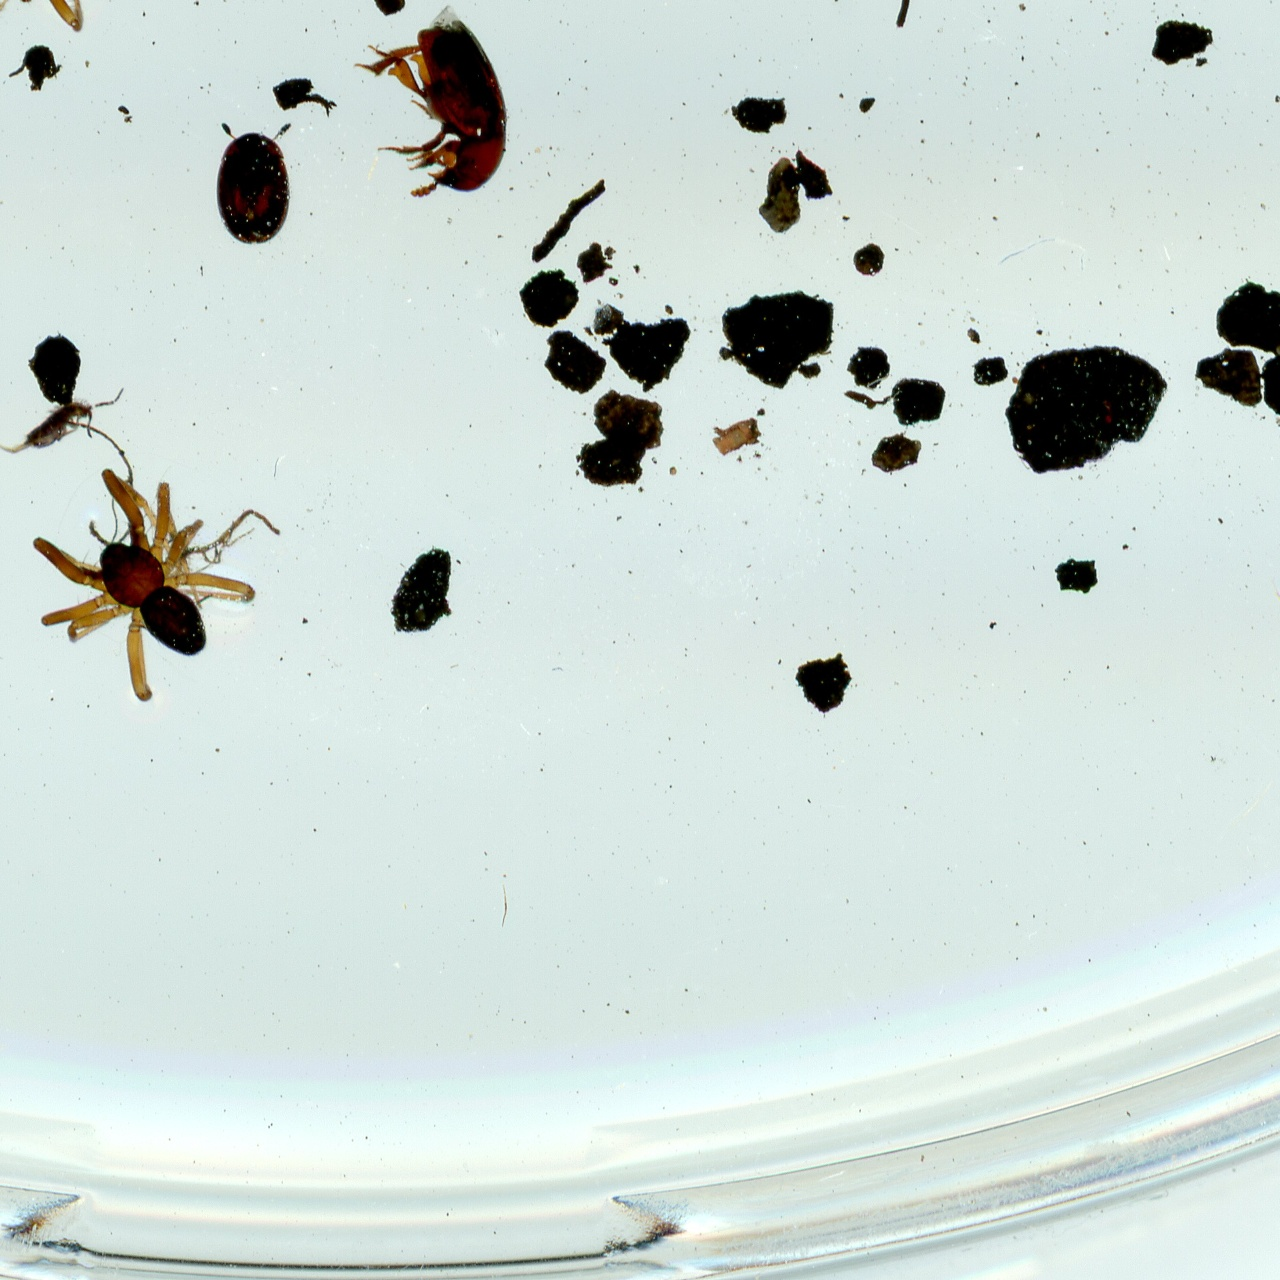arthropod: (28, 467, 259, 706), (351, 3, 511, 205), (0, 375, 141, 474), (213, 116, 295, 248), (0, 0, 90, 45)
